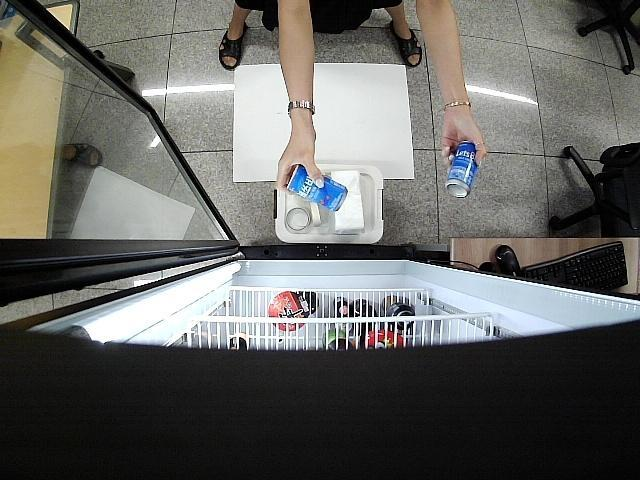15_letsbe: (284, 164, 348, 212), (444, 142, 478, 198)
